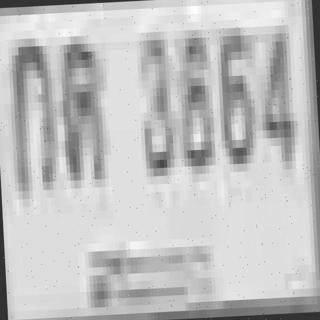A01: (7, 29, 61, 200)
A04: (52, 27, 113, 197)
N03: (132, 32, 171, 169)
N04: (254, 25, 296, 171)
N06: (208, 19, 258, 165), (170, 29, 216, 167)
